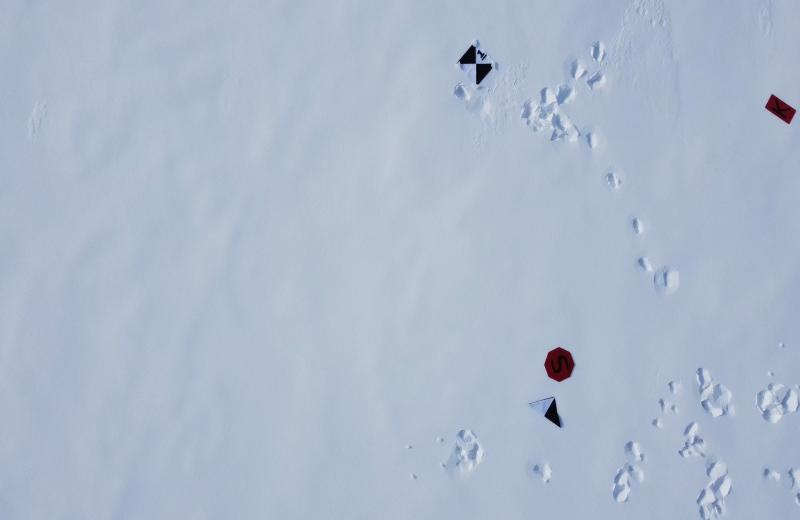Octagon: (540, 342, 578, 387)
Rectangle: (758, 87, 798, 135)
